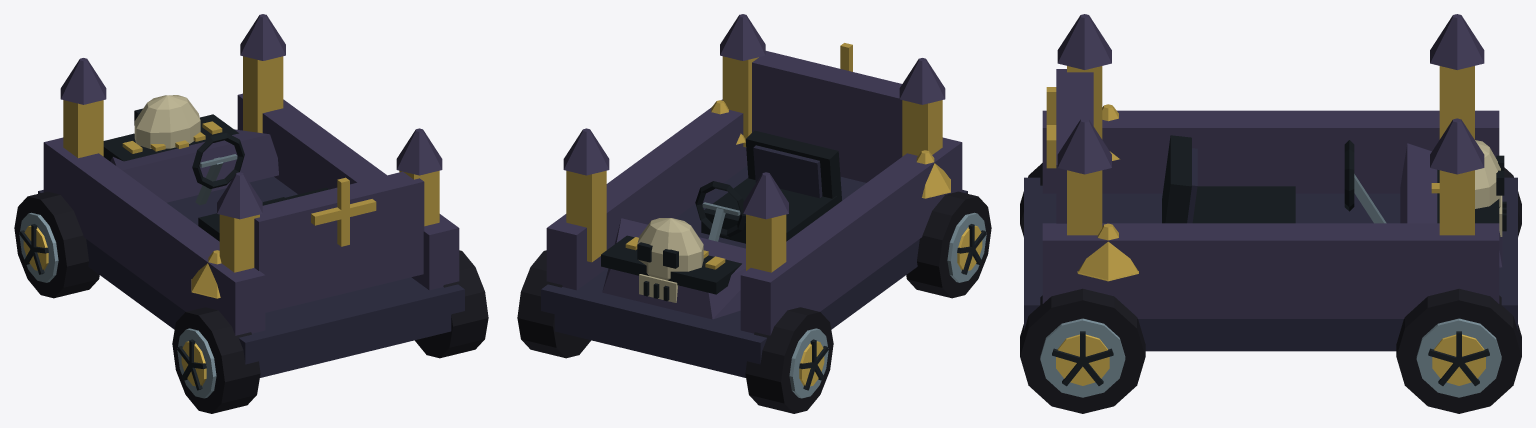
Rendered from kart.glb.
3 views of the same model, side by side, from view 1: azimuth 30°, elevation 25°; view 2: azimuth 150°, elevation 25°; view 3: azimuth 270°, elevation 25° (orthographic). The views are drawn at different scales.
Parts seen in each view (by area): view 1: identity-reliquary-reliquary-arched-stone-chest, wheel-rear-left, wheel-front-left, wheel-rear-right, identity-reliquary-motif-skull, identity-reliquary-driver-cockpit, identity-reliquary-motif-equalizer, identity-reliquary-motif-gems; view 2: identity-reliquary-reliquary-arched-stone-chest, identity-reliquary-driver-cockpit, wheel-front-left, wheel-rear-left, identity-reliquary-motif-skull, wheel-front-right, identity-reliquary-motif-equalizer, identity-reliquary-motif-gems; view 3: identity-reliquary-reliquary-arched-stone-chest, wheel-front-right, wheel-rear-right, identity-reliquary-driver-cockpit, identity-reliquary-motif-gems, identity-reliquary-motif-skull, identity-reliquary-motif-equalizer.
Part boxes in pixels (bbox=[...]): identity-reliquary-reliquary-arched-stone-chest: bbox=[38, 14, 464, 377]; wheel-rear-left: bbox=[172, 307, 260, 413]; wheel-front-left: bbox=[14, 191, 99, 298]; wheel-rear-right: bbox=[415, 250, 488, 358]; identity-reliquary-motif-skull: bbox=[134, 95, 200, 148]; identity-reliquary-driver-cockpit: bbox=[192, 132, 329, 241]; identity-reliquary-motif-equalizer: bbox=[103, 114, 238, 161]; identity-reliquary-motif-gems: bbox=[191, 250, 221, 298]; identity-reliquary-reliquary-arched-stone-chest: bbox=[541, 14, 967, 377]; identity-reliquary-driver-cockpit: bbox=[695, 130, 841, 243]; wheel-front-left: bbox=[745, 307, 833, 413]; wheel-rear-left: bbox=[906, 191, 991, 298]; identity-reliquary-motif-skull: bbox=[637, 218, 703, 302]; wheel-front-right: bbox=[517, 250, 590, 358]; identity-reliquary-motif-equalizer: bbox=[601, 235, 741, 294]; identity-reliquary-motif-gems: bbox=[711, 100, 950, 198]; identity-reliquary-reliquary-arched-stone-chest: bbox=[1024, 14, 1517, 351]; wheel-front-right: bbox=[1396, 288, 1521, 413]; wheel-rear-right: bbox=[1020, 288, 1145, 413]; identity-reliquary-driver-cockpit: bbox=[1162, 135, 1386, 223]; identity-reliquary-motif-gems: bbox=[1077, 104, 1138, 281]; identity-reliquary-motif-skull: bbox=[1475, 140, 1506, 236]; identity-reliquary-motif-equalizer: bbox=[1431, 169, 1499, 223].
Size of the model in its own units: 1.97 by 1.51 by 2.56.
